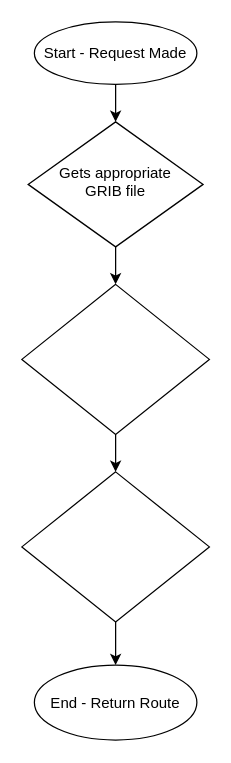
The diagram is 231 pixels wide and 763 high, and some of its shapes have lost their labels. Here are the shapes that lost their labels. From the top down, the centre of each, then its label:
At (115,358): "Parse GRIB File".
At (115,546): "Apply Weather Routing".
